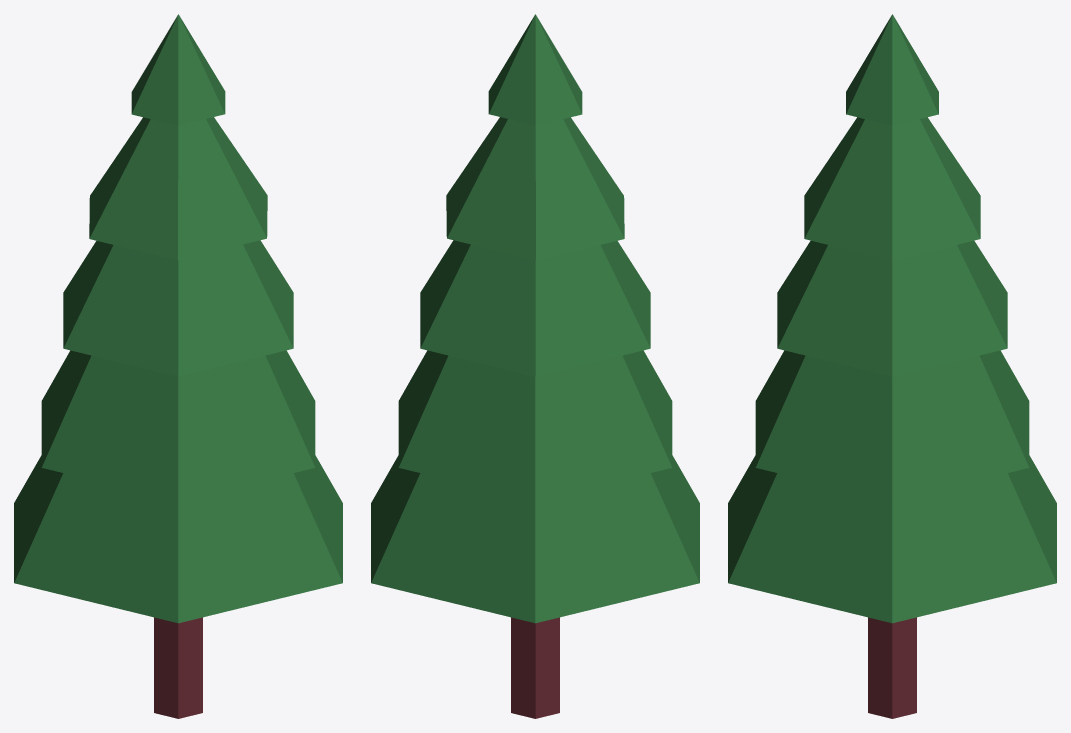
The model's file is Pine_Tree_Mod.fbx.
The picture shows the model from 3 angles, left to right: view 1: azimuth 30°, elevation 25°; view 2: azimuth 150°, elevation 25°; view 3: azimuth 270°, elevation 25°; orthographic projection.
Parts seen in each view (by area): view 1: Pine; view 2: Pine; view 3: Pine.
Part boxes in pixels (x1=…): Pine: x1=14, y1=14, x2=342, y2=718; Pine: x1=371, y1=14, x2=699, y2=718; Pine: x1=728, y1=14, x2=1056, y2=718.
Size of the model in its own units: 170 by 342 by 147.
